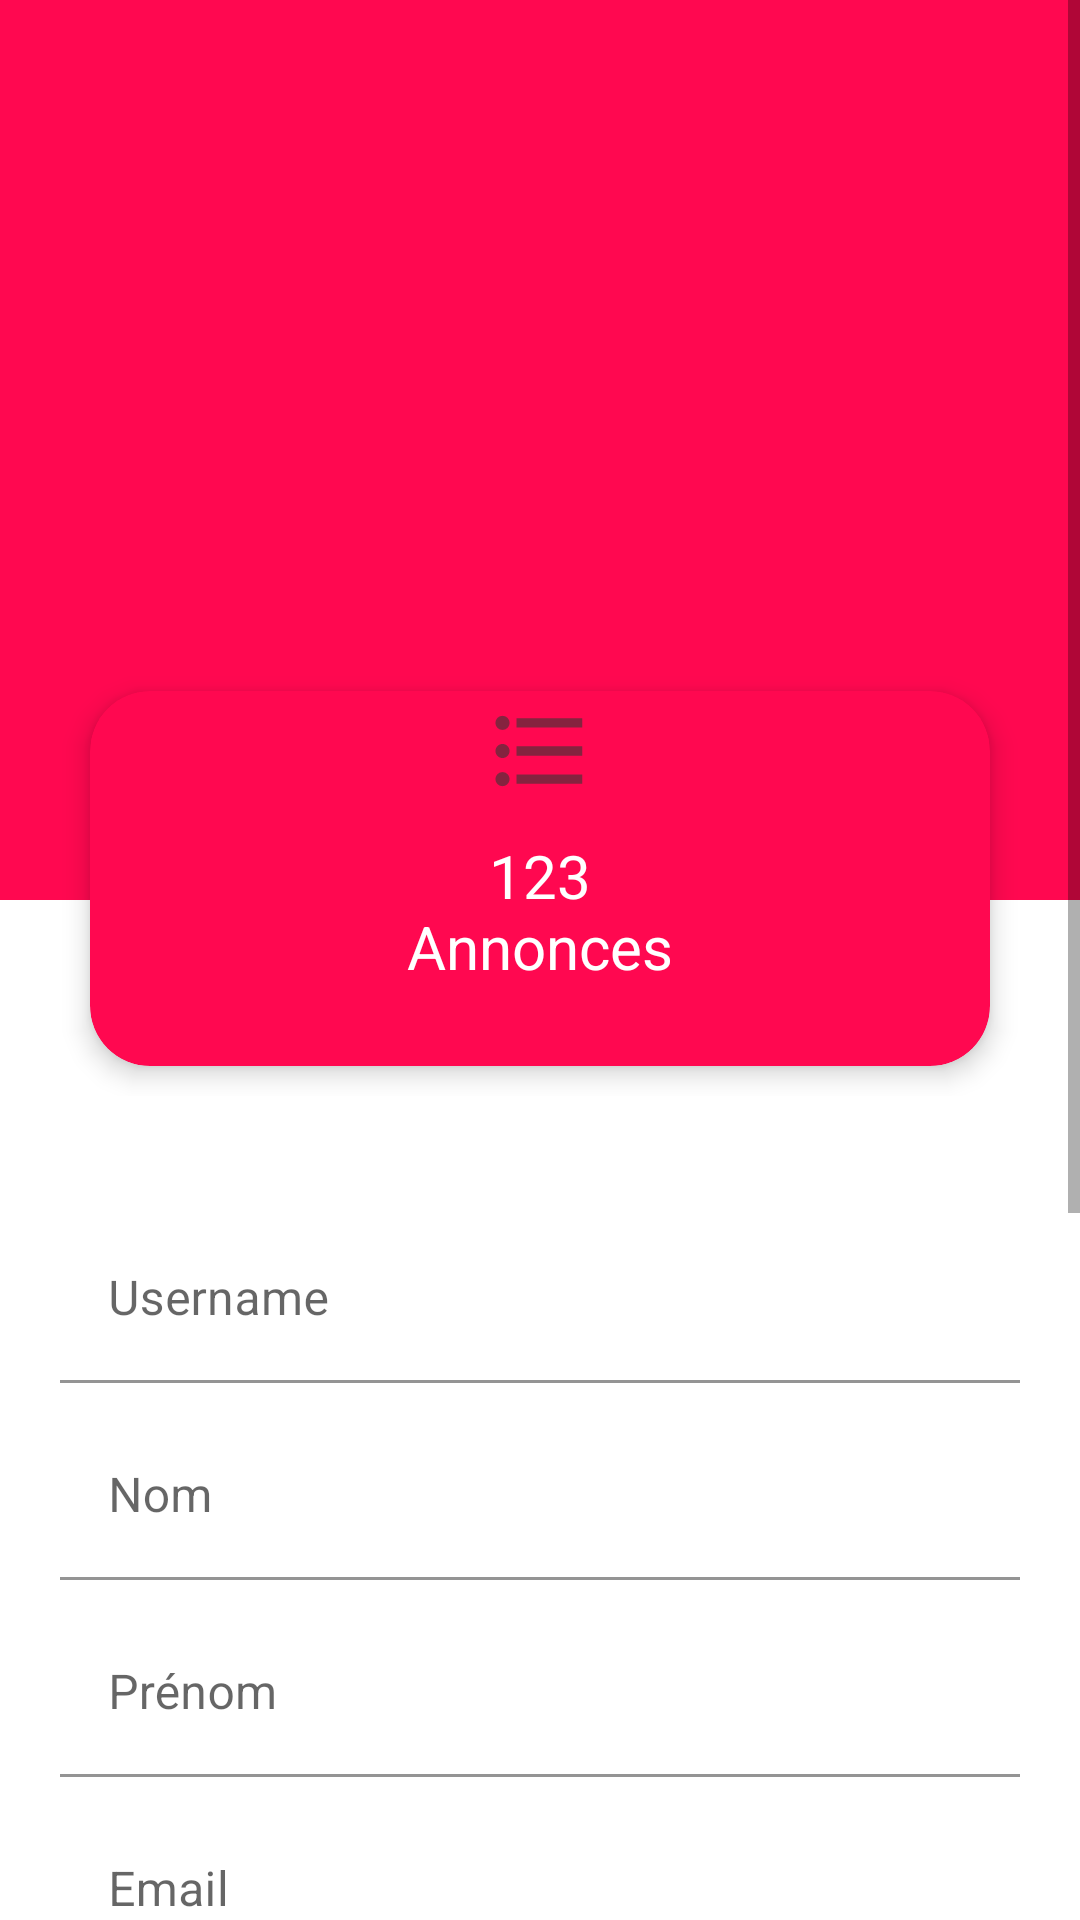

Icons on this 1080 x 1920 Android screen, each with the point to tap as point (x, y):
list: point (539, 751)
